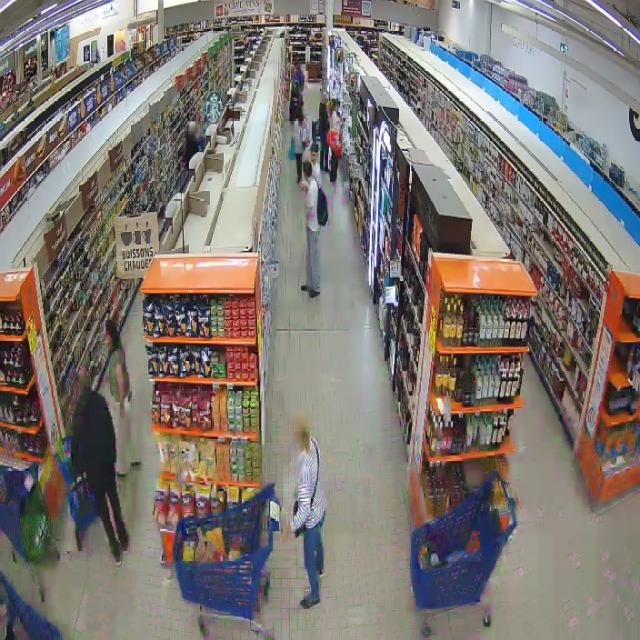bags: (310, 445, 319, 508), (317, 181, 328, 226)
hands: (280, 523, 290, 542), (120, 403, 124, 417)
person: (71, 369, 129, 565), (283, 415, 327, 608), (106, 319, 140, 476), (301, 162, 319, 297), (303, 143, 321, 187), (185, 122, 198, 171)
